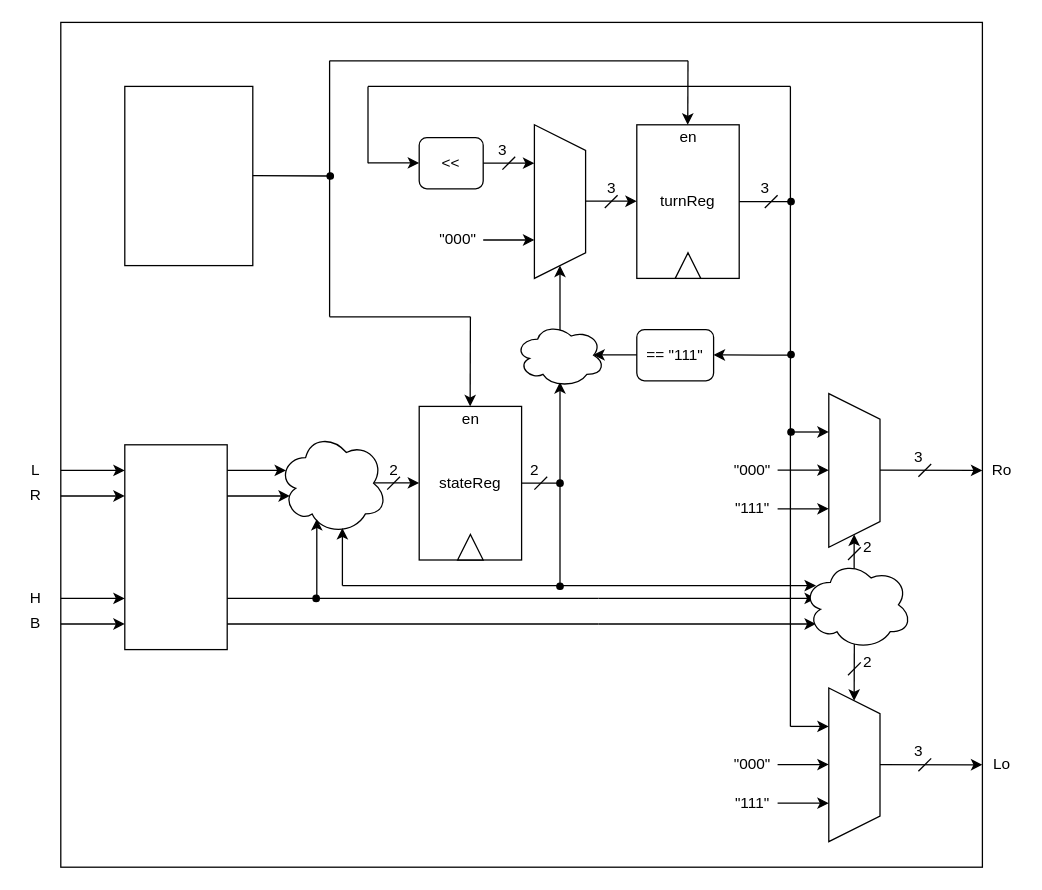
This 1042x890 diagram has some shape labels left out. Each missing label, with the centre of its shape:
input synchronizer: pixel 175 547
tickGen: pixel 188 175
